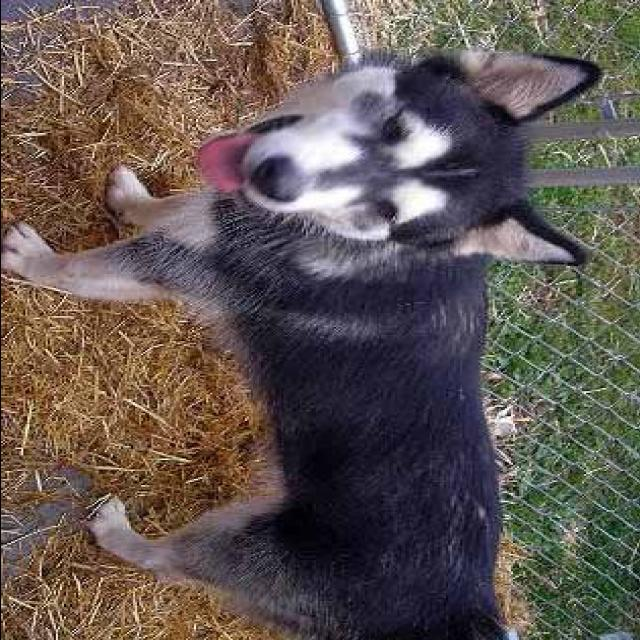dog: (29, 24, 600, 640)
